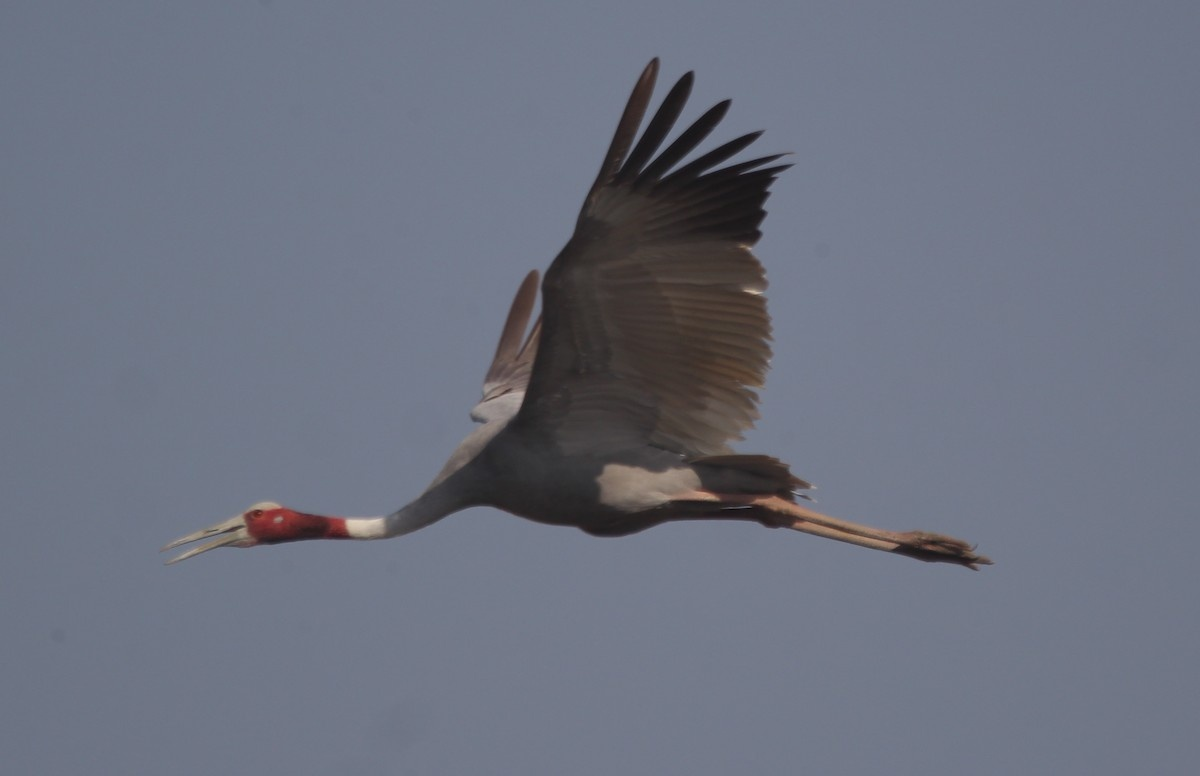crane: (157, 43, 1006, 620)
